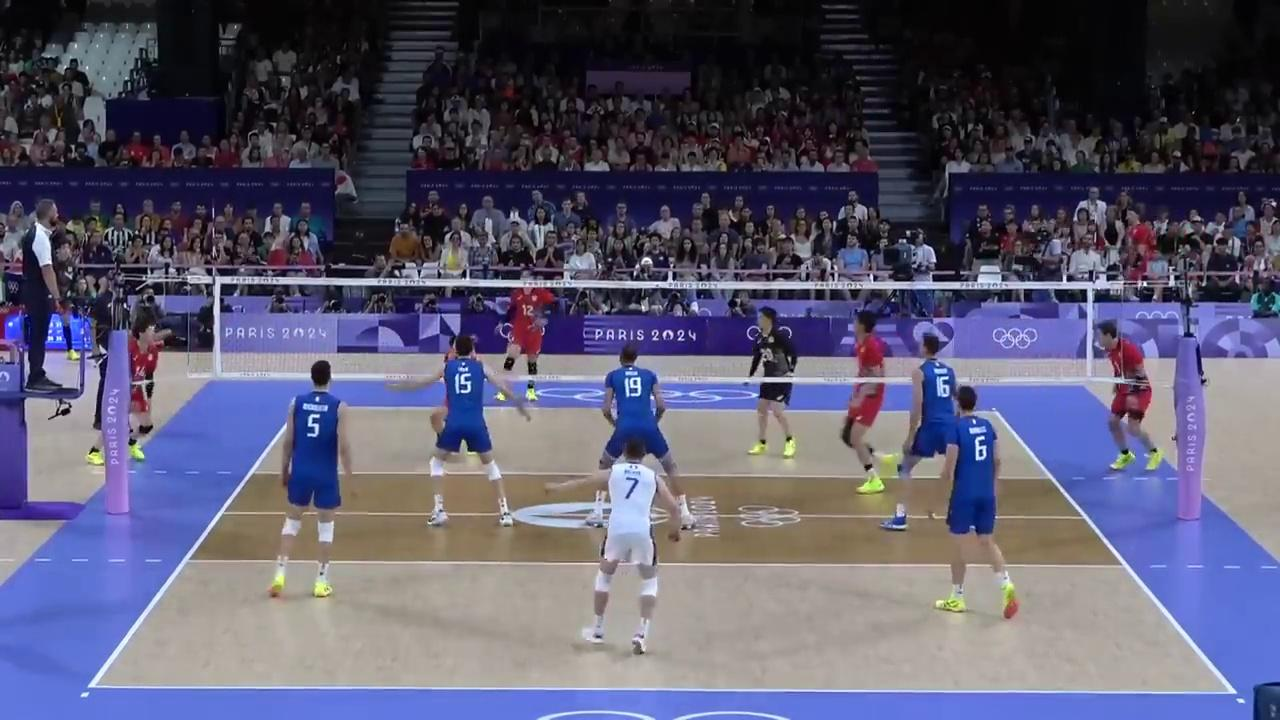ball: (445, 254, 461, 269)
